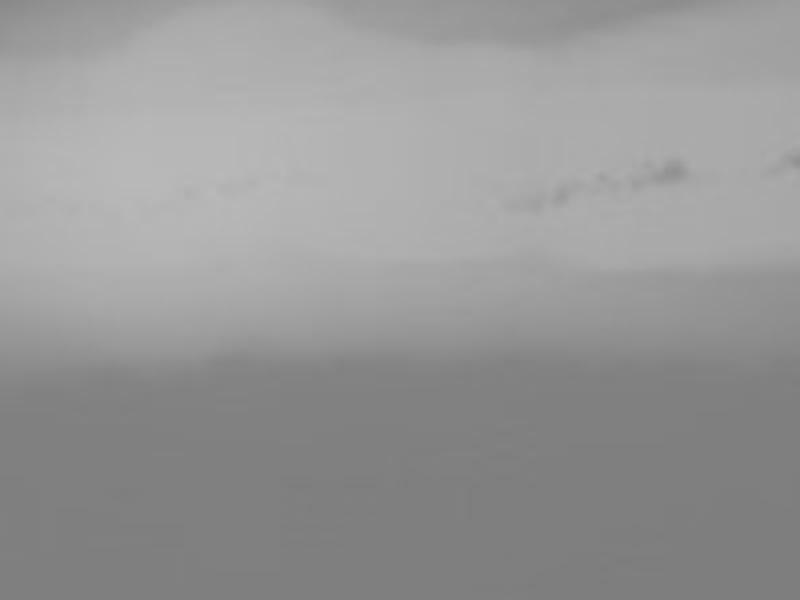defect: (505, 192, 547, 218), (765, 145, 800, 172), (556, 177, 580, 211), (632, 168, 661, 196), (665, 155, 690, 184)
